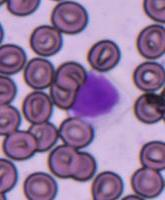L: (66, 69, 130, 126)
